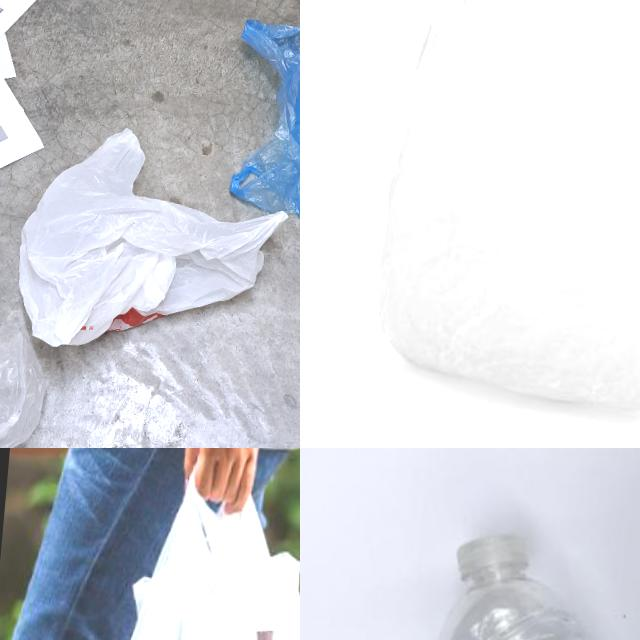garrafa plástica: (409, 565, 640, 640)
papel: (0, 0, 89, 216)
sacola plástica: (353, 0, 640, 419), (10, 120, 295, 367), (48, 448, 282, 640), (184, 469, 300, 640), (226, 15, 300, 228)
tampa plástica: (453, 526, 532, 586)
